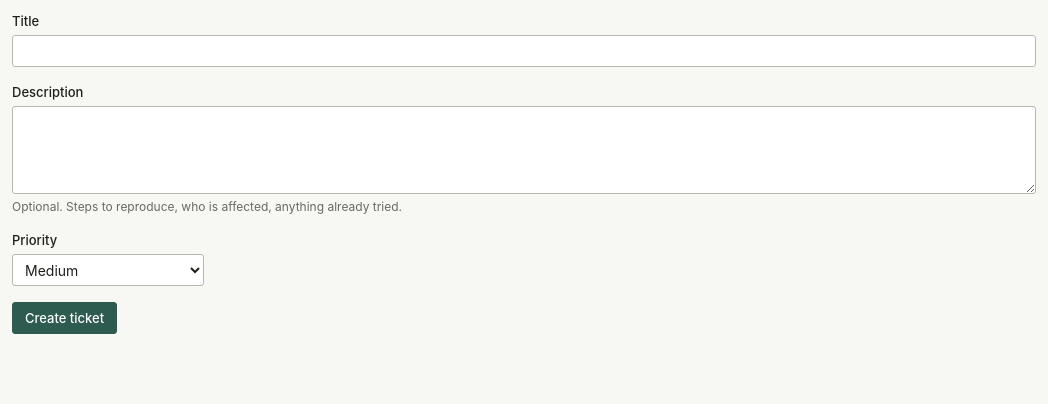
Test: CreateTicketForm › shows a reference the user can quote when the server fails
Type "Payroll export fails" into the field labelled "Title" at (524, 51), box [12,35,1036,67]
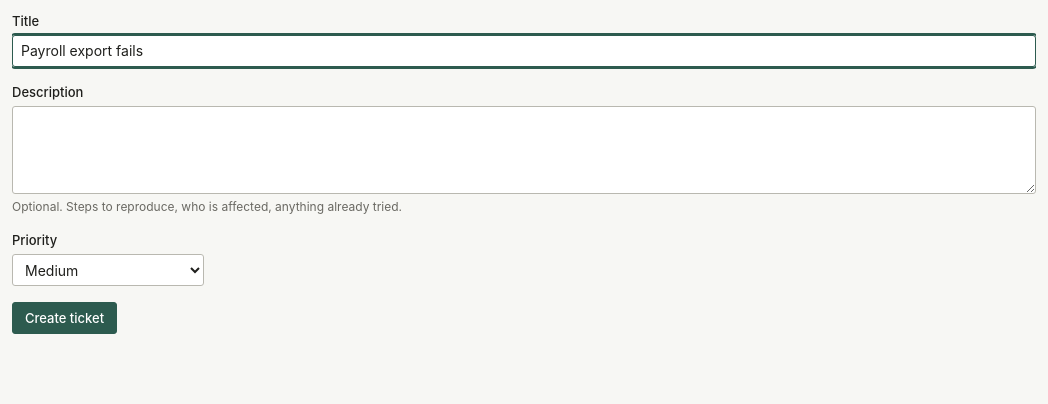
Click the button "Create ticket" at (65, 318), box [12,302,117,334]
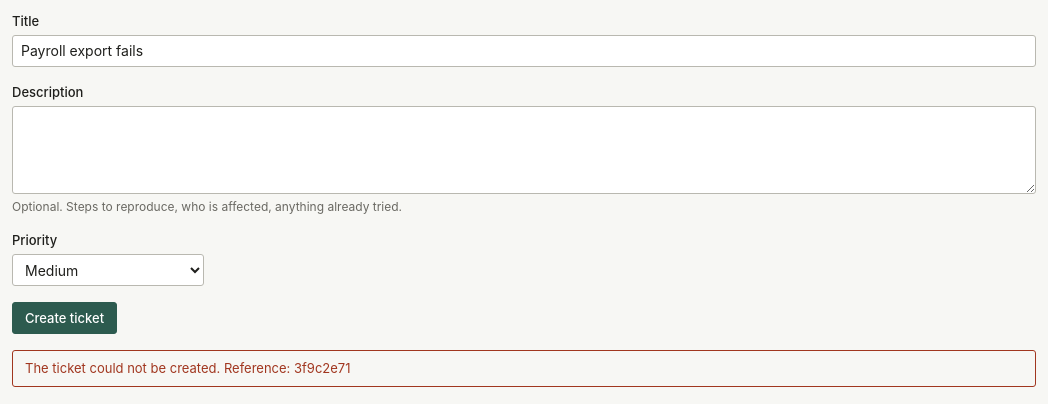
Expected: the message reads "The ticket could not be created. Reference: 3f9c2e71", [25,360,350,376]
